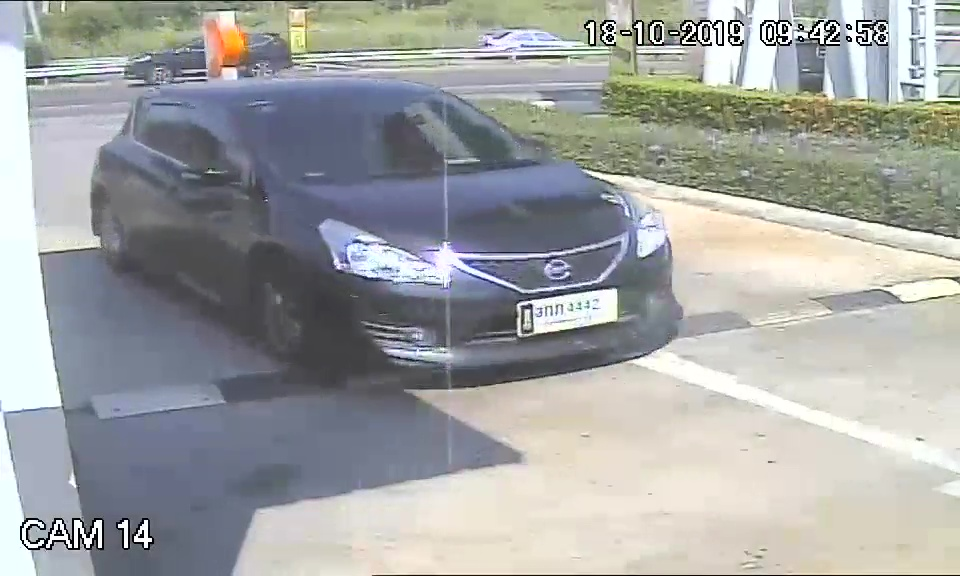sedan: (91, 77, 687, 385)
